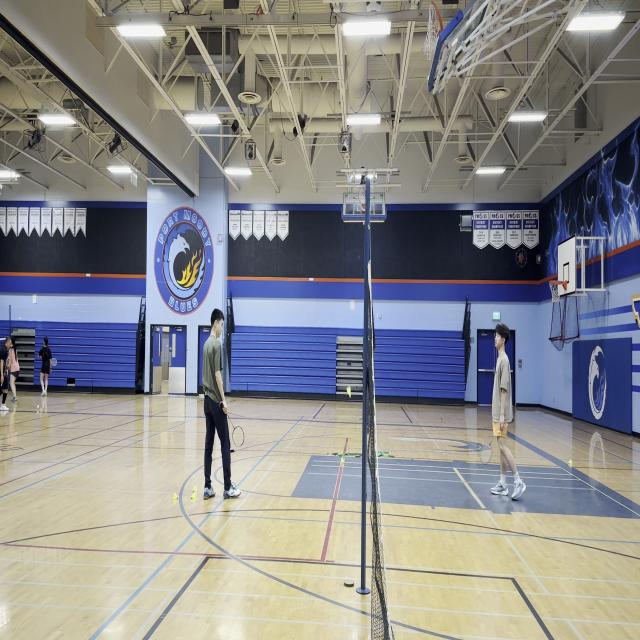shuttlecock: (346, 386, 352, 398)
